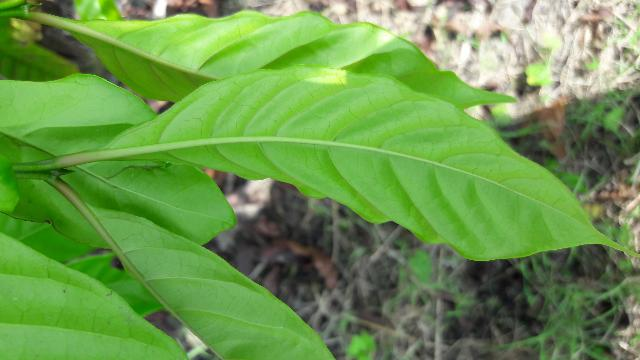healthy: (116, 70, 600, 260)
